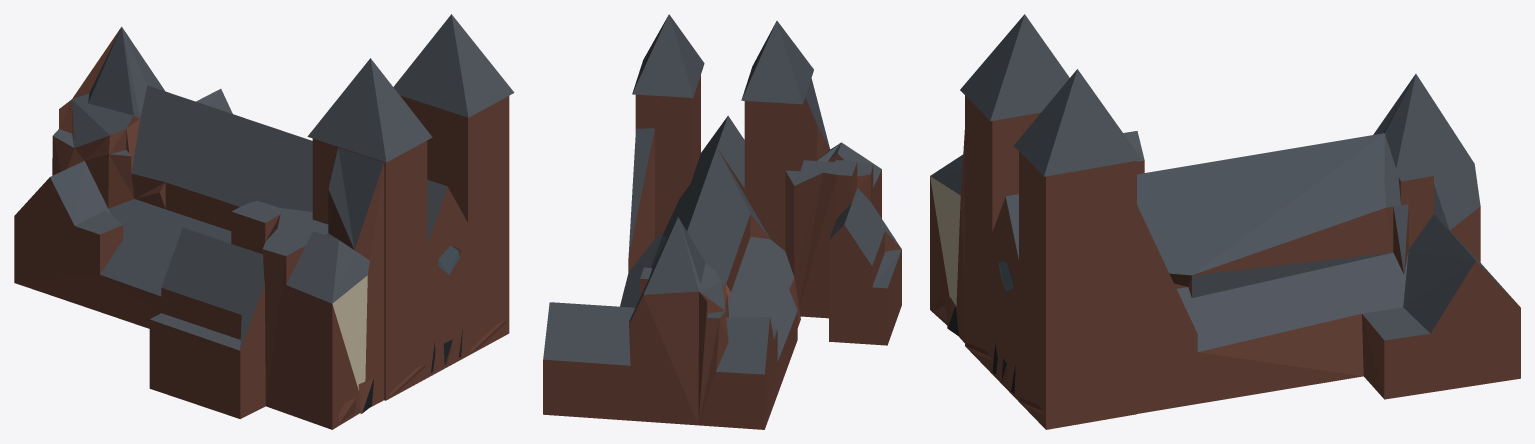
The model's file is fatih-moskee.lod2.glb.
3 views of the same model, side by side, from view 1: azimuth 30°, elevation 25°; view 2: azimuth 150°, elevation 25°; view 3: azimuth 270°, elevation 25° (orthographic). The views are drawn at different scales.
Visible parts, largest first — view 1: lod2; view 2: lod2; view 3: lod2.
Part boxes in pixels (box(x1,y1,x2,y2)): lod2: box(14, 14, 514, 429); lod2: box(543, 14, 901, 429); lod2: box(930, 14, 1520, 429).
Size of the model in its own units: 40.43 by 37.3 by 58.95.
